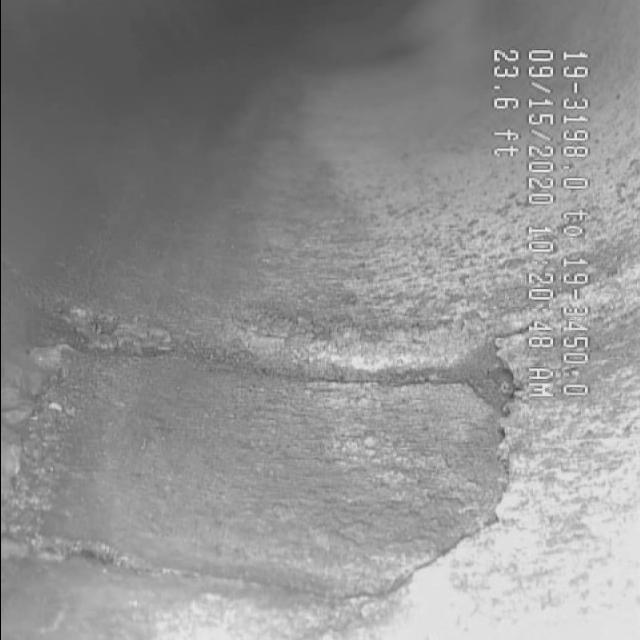Crack: (34, 309, 520, 577)
